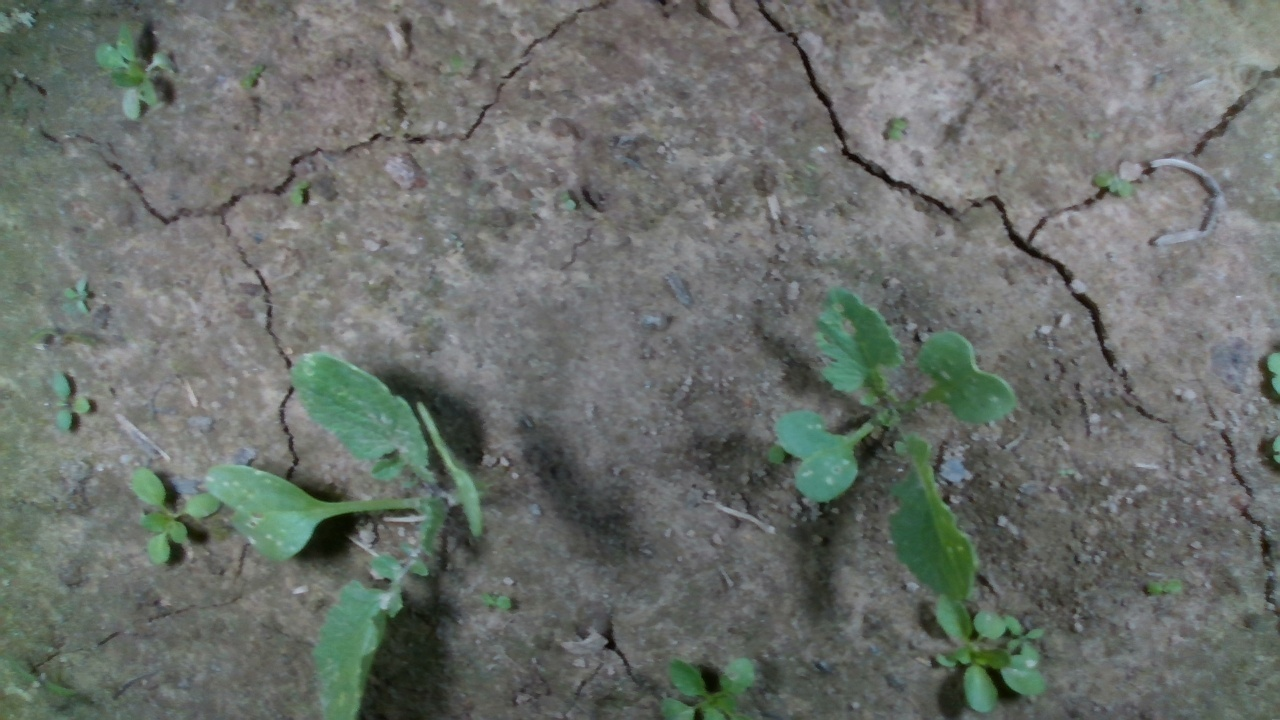weed: (49, 374, 91, 431), (1093, 168, 1133, 199), (62, 274, 91, 316), (1143, 576, 1185, 595), (479, 591, 512, 611)
